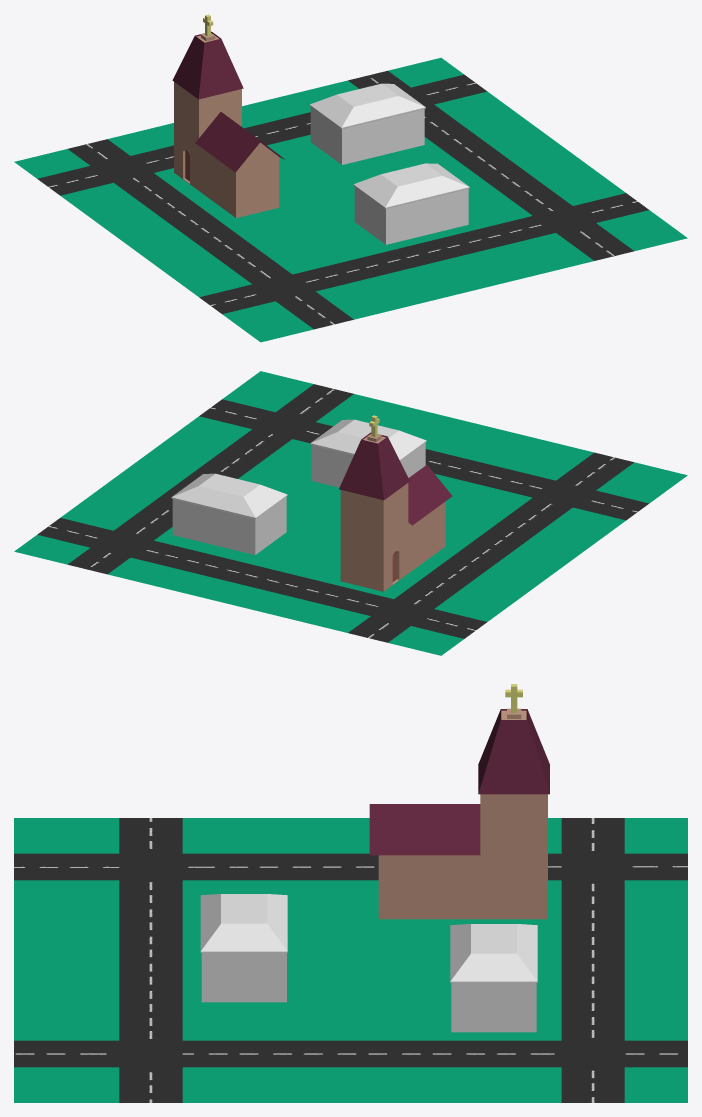
Rendered from street.glb.
3 renders of one model, top to bottom at view 1: azimuth 30°, elevation 25°; view 2: azimuth 150°, elevation 25°; view 3: azimuth 270°, elevation 25°, orthographic. The views are drawn at different scales.
Parts seen in each view (by area): view 1: Grass, Streets, Church, Pizzeria, Grocery Store; view 2: Grass, Streets, Church, Grocery Store, Pizzeria; view 3: Grass, Streets, Church, Grocery Store, Pizzeria.
Boxes of the visible parts, x1=… form: Grass: x1=14, y1=57, x2=687, y2=342; Streets: x1=37, y1=70, x2=648, y2=329; Church: x1=172, y1=14, x2=285, y2=217; Pizzeria: x1=353, y1=163, x2=469, y2=244; Grocery Store: x1=309, y1=83, x2=425, y2=164; Grass: x1=14, y1=371, x2=687, y2=655; Streets: x1=37, y1=384, x2=648, y2=642; Church: x1=339, y1=415, x2=452, y2=591; Grocery Store: x1=171, y1=473, x2=287, y2=554; Pizzeria: x1=310, y1=419, x2=426, y2=487; Grass: x1=14, y1=818, x2=687, y2=1102; Streets: x1=14, y1=818, x2=687, y2=1102; Church: x1=369, y1=684, x2=549, y2=919; Grocery Store: x1=450, y1=924, x2=537, y2=1032; Pizzeria: x1=200, y1=894, x2=287, y2=1002.
Bounding box in the file's own units: 51.26 × 18.44 × 51.26.
Materials: 7 (1 with a texture image).
